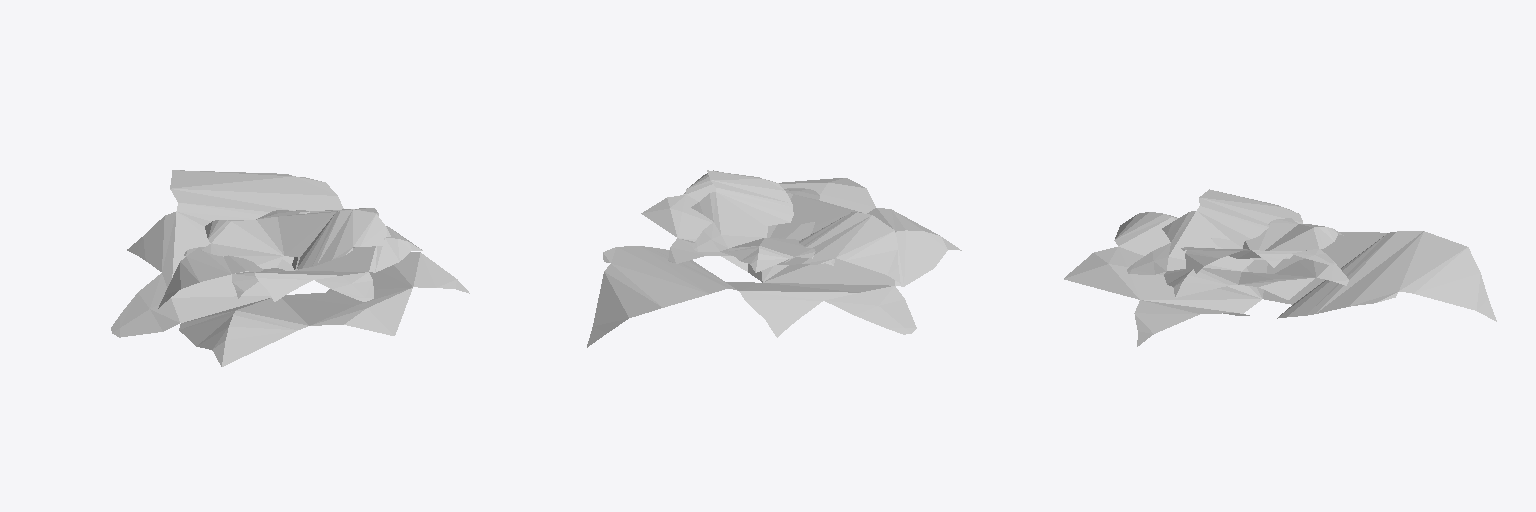
The model's file is plant.obj.
3 renders of one model, left to right at view 1: azimuth 30°, elevation 25°; view 2: azimuth 150°, elevation 25°; view 3: azimuth 270°, elevation 25°, orthographic.
Visible parts, largest first — view 1: Fern_Plant_Preview__FREE_Model; view 2: Fern_Plant_Preview__FREE_Model; view 3: Fern_Plant_Preview__FREE_Model.
Part boxes in pixels (left/top/right/bottom): Fern_Plant_Preview__FREE_Model: left=111, top=170, right=469, bottom=366; Fern_Plant_Preview__FREE_Model: left=587, top=170, right=961, bottom=347; Fern_Plant_Preview__FREE_Model: left=1064, top=189, right=1496, bottom=346.
Bounding box in the file's own units: 12.7 × 3.59 × 16.63.